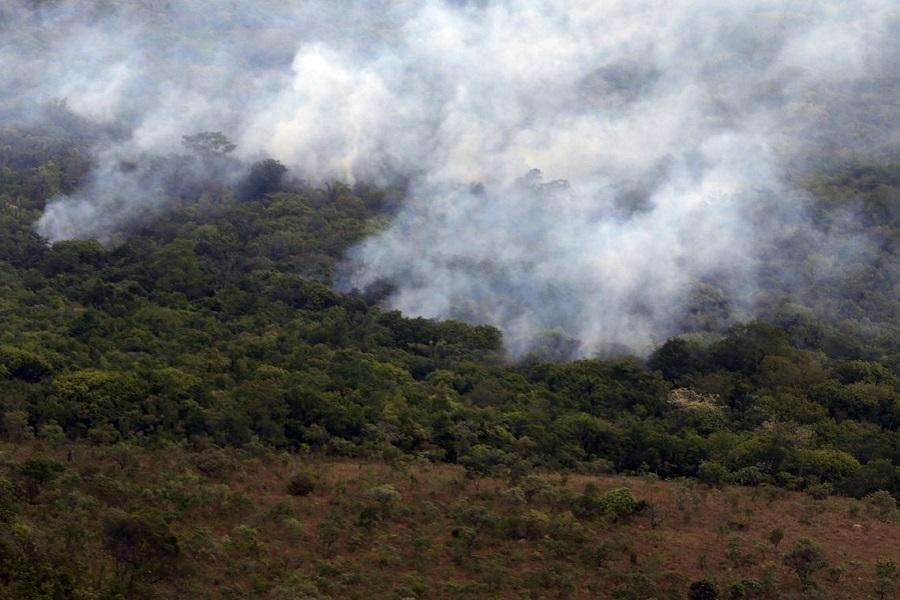smoke: (425, 0, 897, 370), (0, 0, 426, 189), (329, 190, 425, 322), (29, 189, 164, 250)
